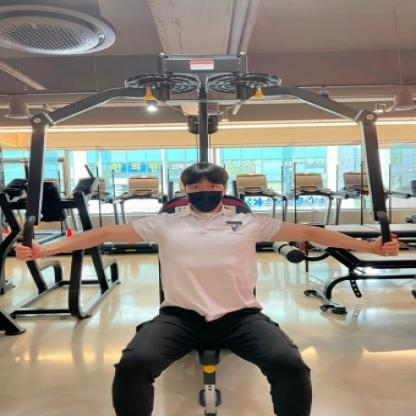chest fly machine: (0, 29, 416, 416)
